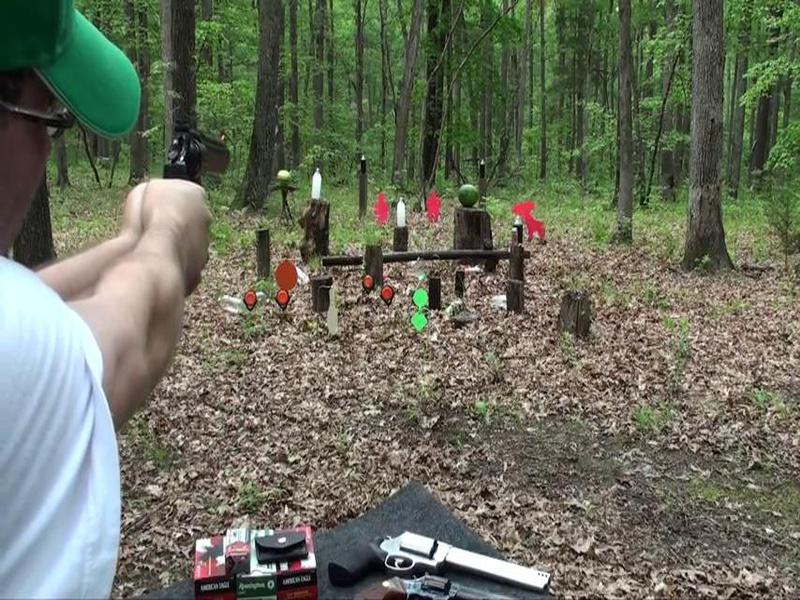Revolver: (159, 122, 256, 206)
